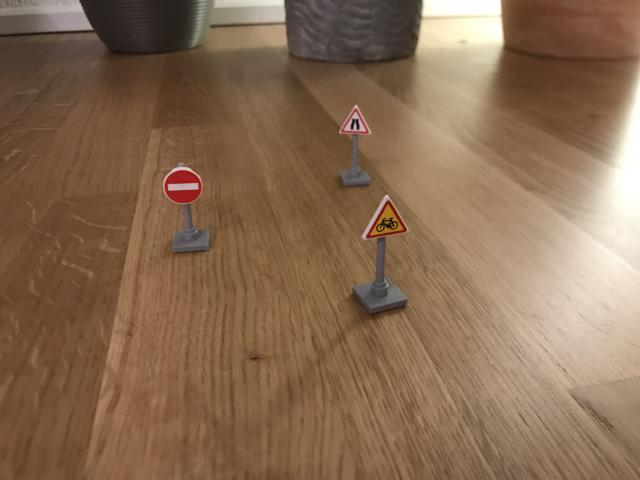radfahrer: (363, 196, 410, 239)
verbot der einfahrt: (163, 167, 204, 207)
verengte fahrbahn: (337, 105, 373, 137)
